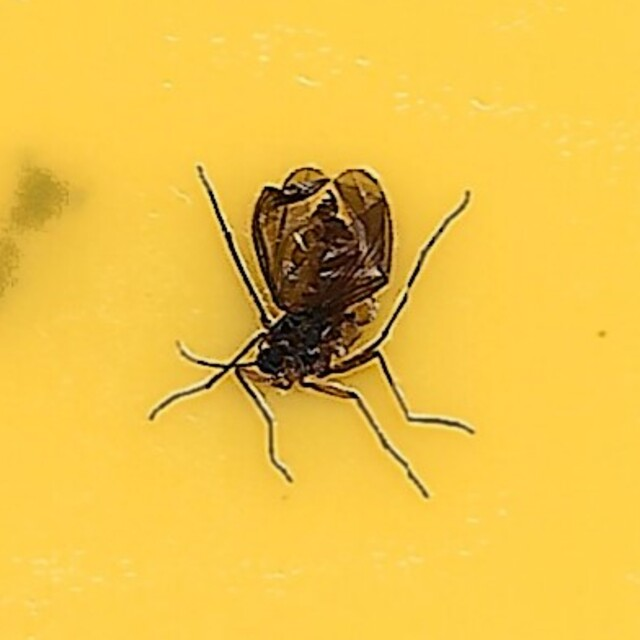Nematocera: (163, 157, 477, 483)
